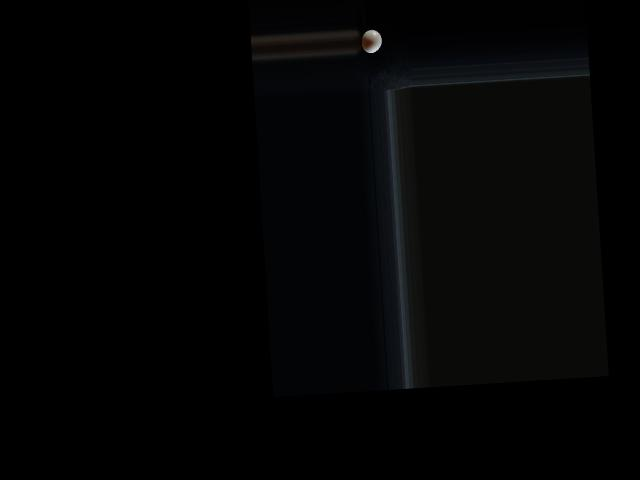egg: (360, 29, 383, 54)
